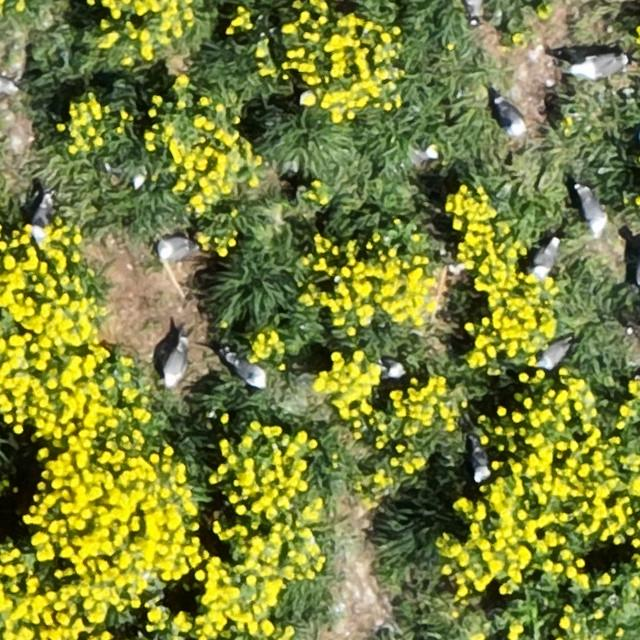umineko: (574, 54, 624, 78), (227, 355, 264, 386), (579, 189, 605, 232), (163, 346, 187, 386), (498, 102, 526, 136), (534, 239, 558, 278), (538, 339, 568, 366), (158, 237, 192, 259), (471, 442, 489, 481), (33, 198, 50, 233), (379, 361, 405, 380), (466, 0, 483, 20), (0, 77, 15, 95)
